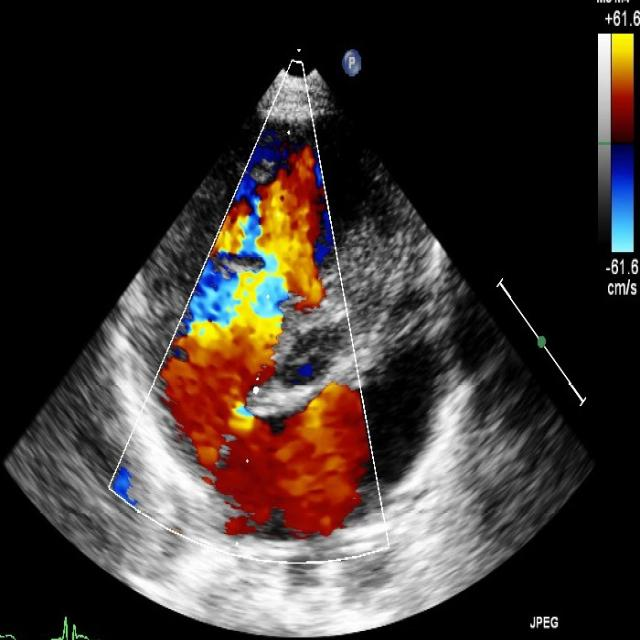ASDType2: (205, 371, 272, 481)
VSDType2: (226, 193, 340, 350)
